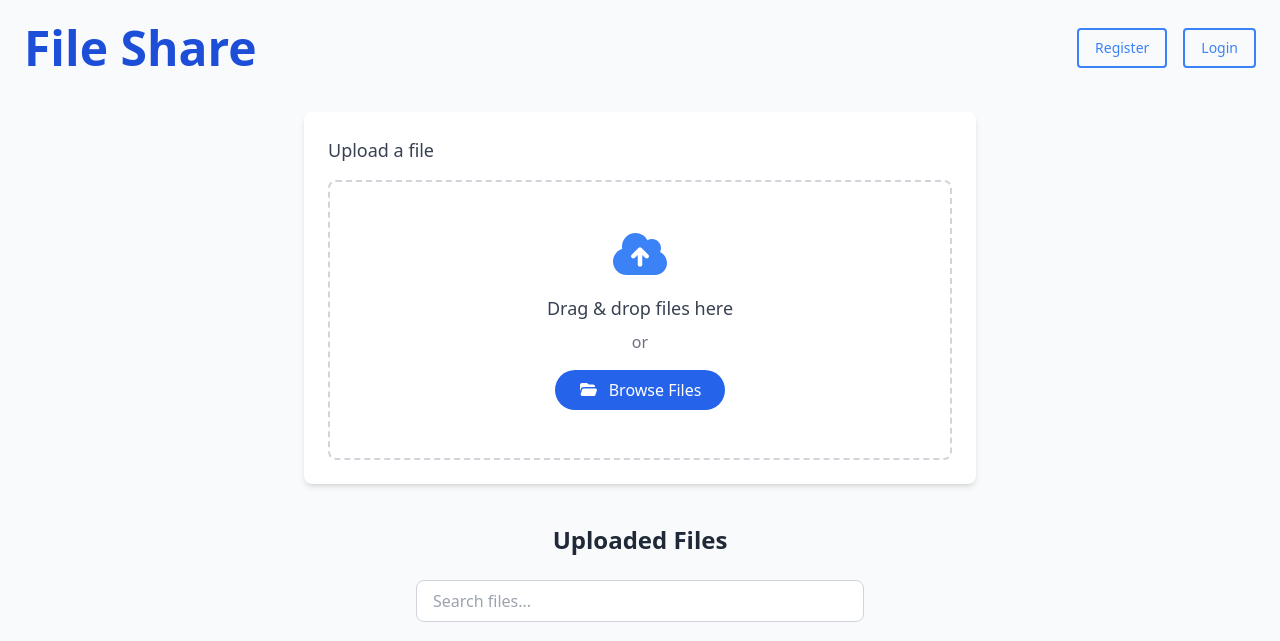
Home Component › filters files based on search term
Type "pdf" into the field with placeholder "Search files...".
click(640, 601); type("pdf")  # box [416,580,864,622]
(page scrolled)
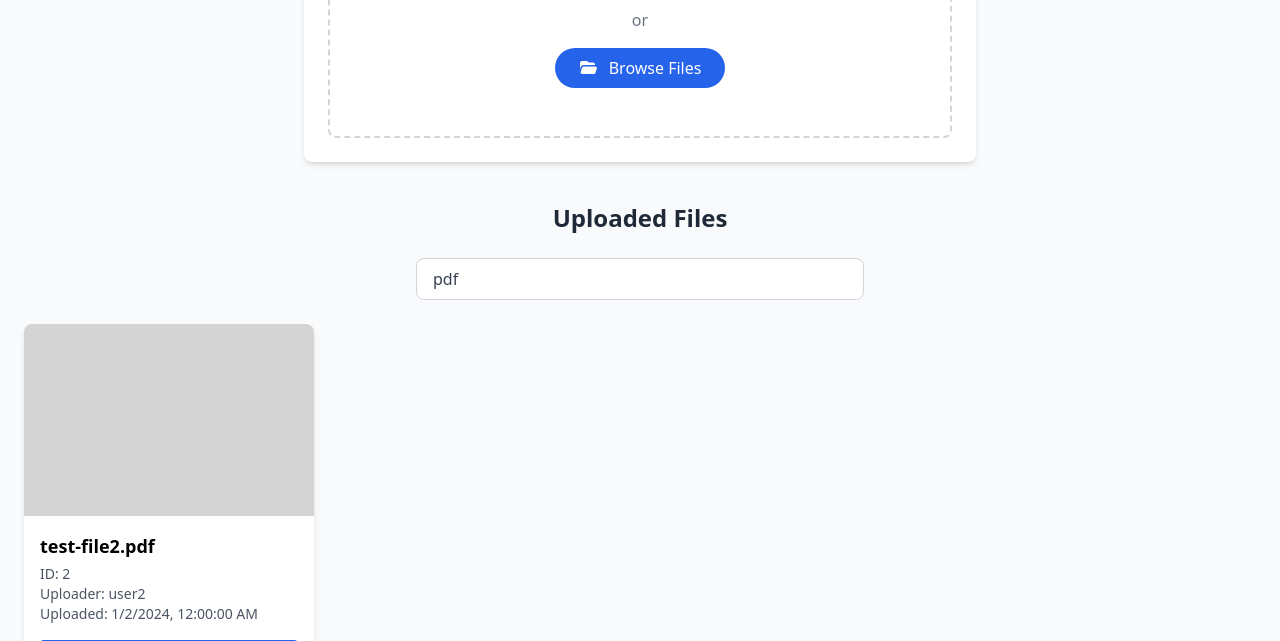
Check: the heading "test-file2.pdf" is shown, box [40,534,155,558]
